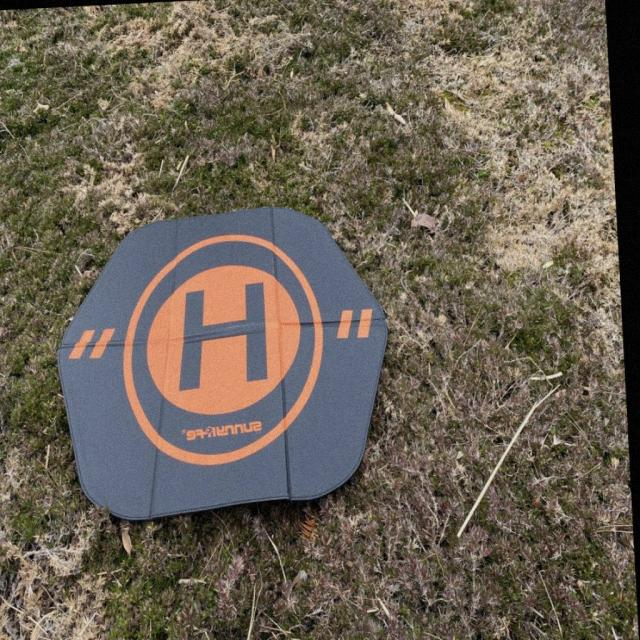helipad: (115, 231, 327, 472)
